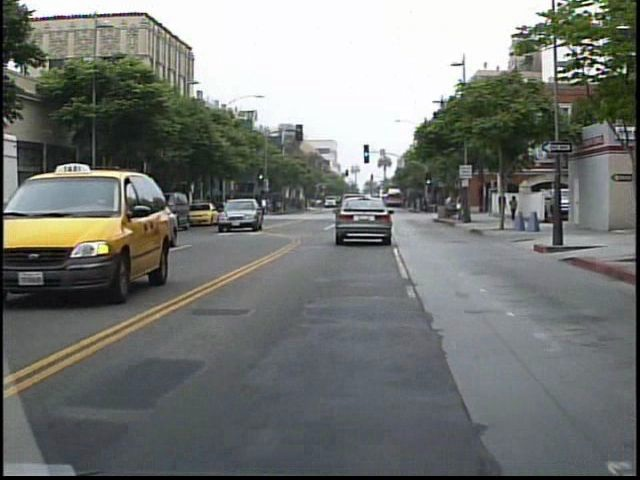person: (492, 187, 507, 226), (437, 189, 455, 220), (503, 191, 516, 224), (257, 194, 270, 218)
